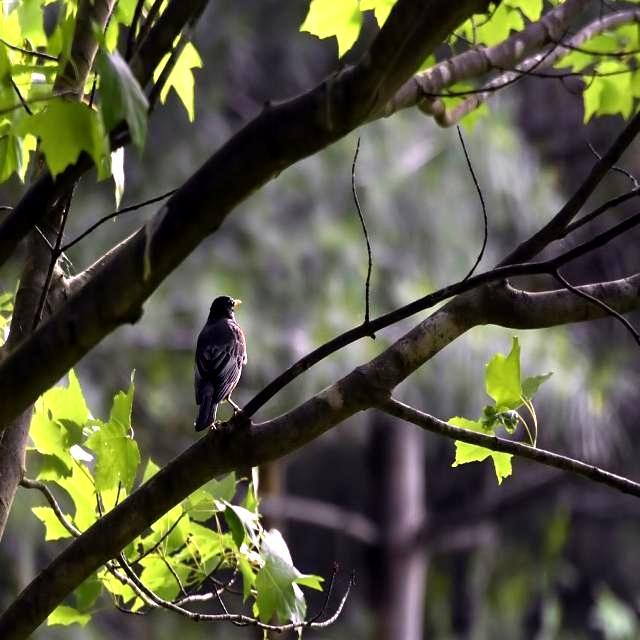bird: (173, 294, 250, 432)
